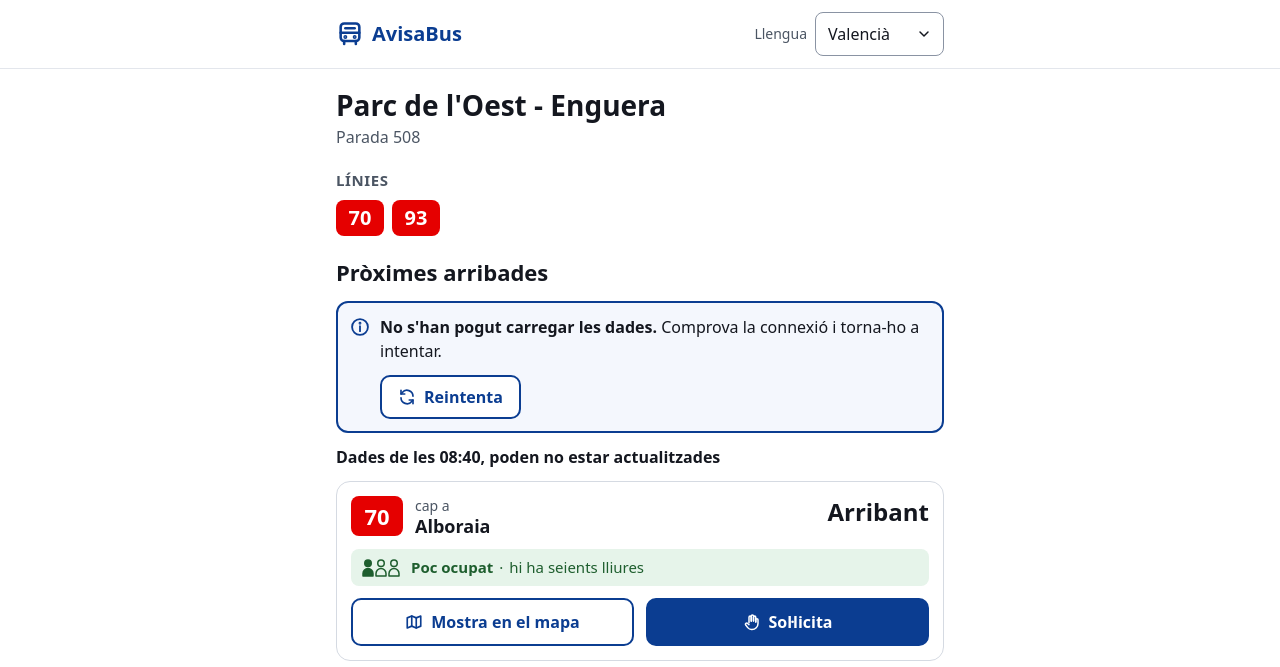
StopPage errors and connectivity › [passenger_stop_view.AC-17] keeps the previous data marked as possibly outdated when a refresh fails (ca)
The image size is (1280, 667).
Check: the text "Dades de les 08:40, poden no estar actualitzades" is shown, box [336,445,720,469]
Click the button "Reintenta" at {"x": 450, "y": 397}, box [380,375,521,419]
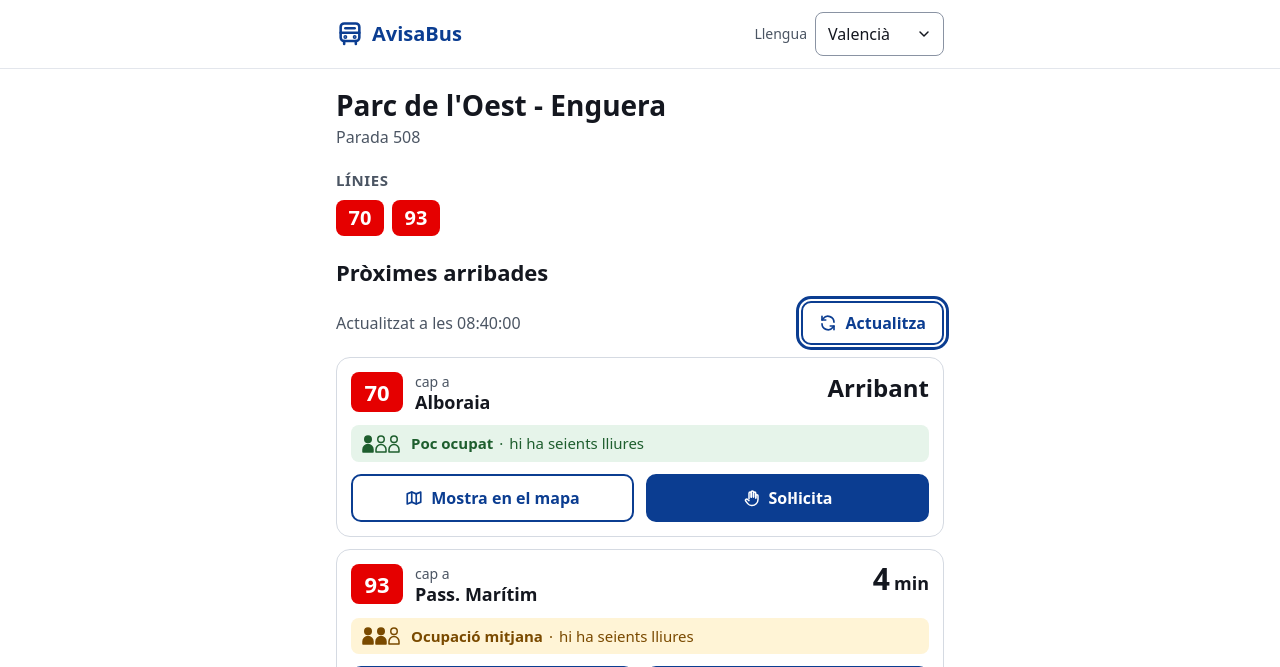
Check: the text "Dades de les 08:40, poden no estar actualitzades" is gone
